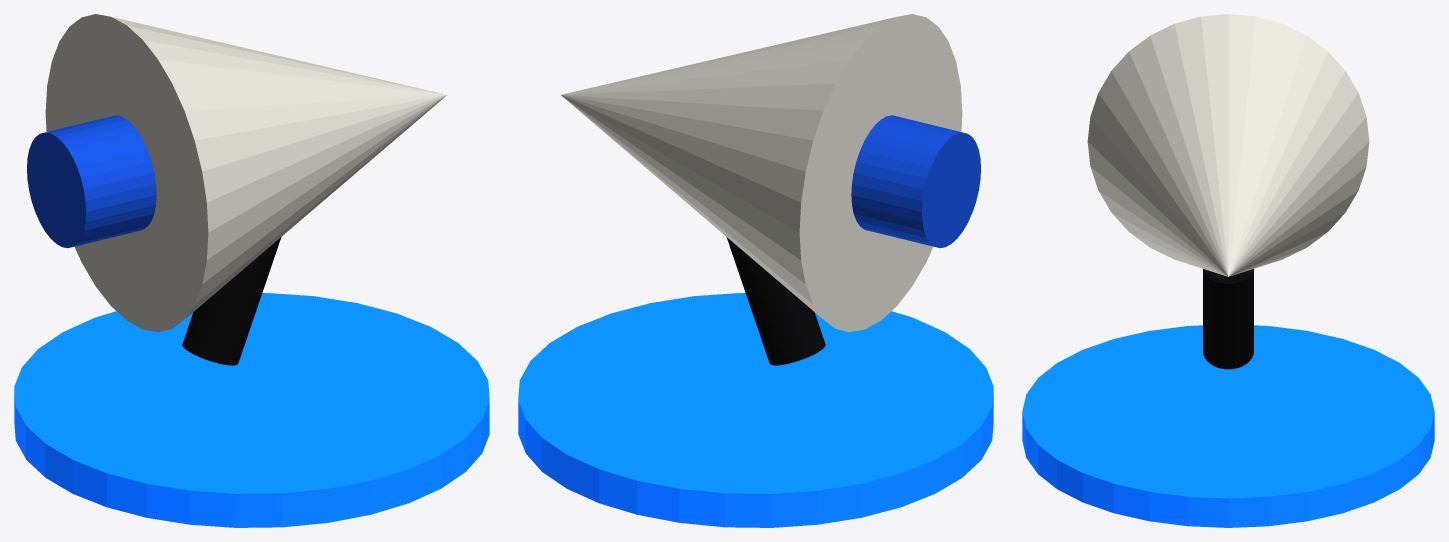
File: news_megaphone.dae
3 views of the same model, side by side, from view 1: azimuth 30°, elevation 25°; view 2: azimuth 150°, elevation 25°; view 3: azimuth 270°, elevation 25° (orthographic). The views are drawn at different scales.
Visible parts, largest first — view 1: 09_08_Popular_News_Megaphone_ROOT_base, 09_08_Popular_News_Megaphone_part_01, 09_08_Popular_News_Megaphone_part_02, 09_08_Popular_News_Megaphone_part_03; view 2: 09_08_Popular_News_Megaphone_ROOT_base, 09_08_Popular_News_Megaphone_part_01, 09_08_Popular_News_Megaphone_part_02, 09_08_Popular_News_Megaphone_part_03; view 3: 09_08_Popular_News_Megaphone_ROOT_base, 09_08_Popular_News_Megaphone_part_01, 09_08_Popular_News_Megaphone_part_03.
Part boxes in pixels (x1,y1,x2,y2): 09_08_Popular_News_Megaphone_ROOT_base: [14, 293, 489, 527]; 09_08_Popular_News_Megaphone_part_01: [45, 14, 446, 332]; 09_08_Popular_News_Megaphone_part_02: [27, 115, 156, 248]; 09_08_Popular_News_Megaphone_part_03: [182, 237, 281, 365]; 09_08_Popular_News_Megaphone_ROOT_base: [518, 293, 993, 527]; 09_08_Popular_News_Megaphone_part_01: [561, 14, 962, 332]; 09_08_Popular_News_Megaphone_part_02: [851, 115, 980, 248]; 09_08_Popular_News_Megaphone_part_03: [726, 237, 825, 365]; 09_08_Popular_News_Megaphone_ROOT_base: [1022, 325, 1434, 527]; 09_08_Popular_News_Megaphone_part_01: [1087, 14, 1369, 276]; 09_08_Popular_News_Megaphone_part_03: [1203, 269, 1253, 369].
Size of the model in its own units: 0.76 by 0.7609 by 0.76.
